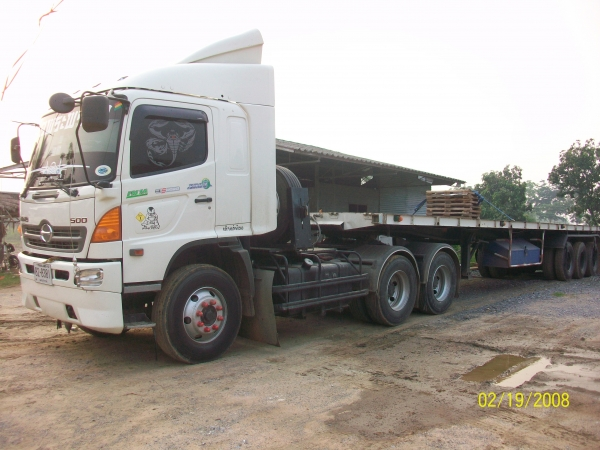truck: (18, 28, 420, 363)
